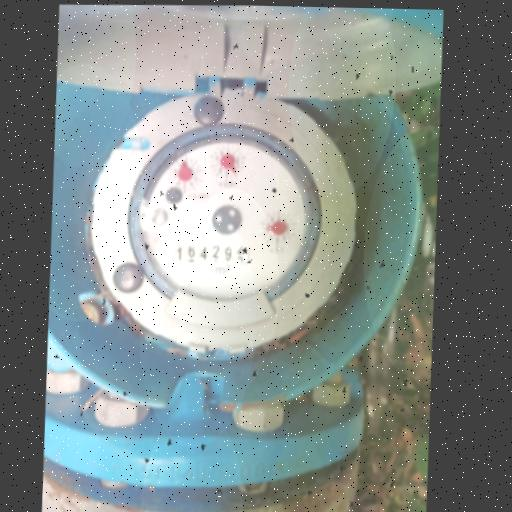1: (175, 245, 188, 262)
2: (211, 245, 223, 262), (236, 246, 248, 263)
4: (200, 246, 211, 263)
6: (187, 244, 199, 263)
9: (224, 246, 237, 263)
border_water_meter_number: (174, 242, 251, 265)
